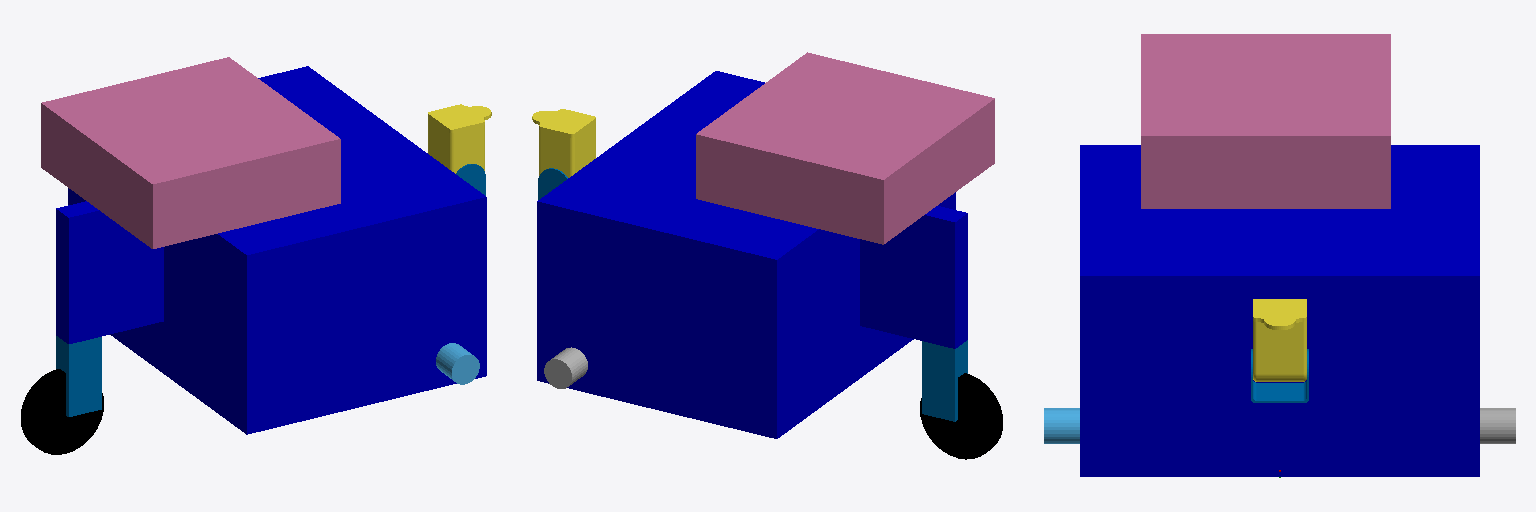
robot.urdf — wubble:
<?xml version="1.0" ?>
<!-- =================================================================================== -->
<!-- |    This document was autogenerated by xacro from wubble_base.urdf.xacro         | -->
<!-- |    EDITING THIS FILE BY HAND IS NOT RECOMMENDED                                 | -->
<!-- =================================================================================== -->
<robot name="wubble" xmlns:controller="http://playerstage.sourceforge.net/gazebo/xmlschema/#controller" xmlns:interface="http://playerstage.sourceforge.net/gazebo/xmlschema/#interface" xmlns:sensor="http://playerstage.sourceforge.net/gazebo/xmlschema/#sensor">
  <!-- Included URDF Files -->
  <material name="Black">
    <color rgba="0.0 0.0 0.0 1.0"/>
  </material>
  <material name="Blue">
    <color rgba="0.0 0.0 0.8 1.0"/>
  </material>
  <material name="Green">
    <color rgba="0.0 0.8 0.0 1.0"/>
  </material>
  <material name="Grey">
    <color rgba="0.7 0.7 0.7 1.0"/>
  </material>
  <material name="Grey2">
    <color rgba="0.9 0.9 0.9 1.0"/>
  </material>
  <material name="Red">
    <color rgba="0.8 0.0 0.0 1.0"/>
  </material>
  <material name="White">
    <color rgba="1.0 1.0 1.0 1.0"/>
  </material>
  <!-- Properties (Constants) -->
  <!-- VIDERE ERRATIC MOBILE BASE -->
  <link name="base_footprint">
    <inertial>
      <mass value="0.0001"/>
      <origin xyz="0 0 0"/>
      <inertia ixx="0.0001" ixy="0.0" ixz="0.0" iyy="0.0001" iyz="0.0" izz="0.0001"/>
    </inertial>
    <visual>
      <origin rpy="0 0 0" xyz="0 0 0"/>
      <geometry>
        <box size="0.001 0.001 0.001"/>
      </geometry>
      <material name="Green"/>
    </visual>
    <collision>
      <origin rpy="0 0 0" xyz="0 0 0.1285"/>
      <geometry>
        <box size="0.001 0.001 0.001"/>
      </geometry>
    </collision>
  </link>
  <joint name="base_footprint_joint" type="fixed">
    <!-- NB: While you would think this would make it go up, it is oddly reversed.
                 This moves the joint to 0,0,0 where we want it for rviz, etc. -->
    <origin rpy="0 0 0" xyz="0 0 0.1285"/>
    <parent link="base_footprint"/>
    <child link="base_link"/>
  </joint>
  <link name="base_link">
    <inertial>
      <mass value="20"/>
      <origin xyz="-0.1085 0 -0.0775"/>
      <inertia ixx="1.0" ixy="0.0" ixz="0.0" iyy="1.0" iyz="0.0" izz="1.0"/>
    </inertial>
    <visual>
      <origin rpy="0 0 0" xyz="0.0 0.0 0.0"/>
      <geometry>
        <box size="0.217 0.28 0.155"/>
      </geometry>
      <material name="Blue"/>
    </visual>
    <collision>
      <origin rpy="0 0 0" xyz="0.0 0.0 0.0"/>
      <geometry>
        <box size="0.217 0.28 0.155"/>
      </geometry>
    </collision>
  </link>
  <joint name="base_top_joint" type="fixed">
    <origin rpy="0 0 0" xyz="0 0 0.0785"/>
    <!-- 0.051 -->
    <parent link="base_link"/>
    <child link="base_top_link"/>
  </joint>
  <link name="base_top_link">
    <inertial>
      <mass value="1.0"/>
      <origin xyz="-0.00125736 0.0 -0.0032368"/>
      <inertia ixx="0.00995424" ixy="0.0" ixz="0.00000413" iyy="0.01191941" iyz="0.0" izx="0.00000413" izz="0.02181097"/>
    </inertial>
    <visual>
      <origin rpy="0 0 0" xyz="0.0 0.0 0.0"/>
      <geometry>
        <mesh filename="package://erratic_description/meshes/erratic_top.stl"/>
      </geometry>
      <material name="Blue"/>
    </visual>
    <collision>
      <origin rpy="0 0 0" xyz="0.0 0.0 0.0"/>
      <geometry>
        <mesh filename="package://erratic_description/meshes/erratic_top.stl"/>
      </geometry>
    </collision>
  </link>
  <joint name="base_caster_box_joint" type="fixed">
    <origin rpy="0 0 0" xyz="-0.1515 0 0.02275"/>
    <parent link="base_link"/>
    <child link="base_caster_box_link"/>
  </joint>
  <link name="base_caster_box_link">
    <inertial>
      <mass value="0.1"/>
      <origin xyz="0 0 0"/>
      <inertia ixx="0.01" ixy="0.0" ixz="0.0" iyy="0.01" iyz="0.0" izz="0.01"/>
    </inertial>
    <visual>
      <origin rpy="0 0 0" xyz="0.0 0.0 0.0"/>
      <geometry>
        <box size="0.086 0.02 0.1095"/>
      </geometry>
      <material name="Blue"/>
    </visual>
    <collision>
      <origin rpy="0 0 0" xyz="0.0 0.0 0.0"/>
      <geometry>
        <box size="0.086 0.02 0.1095"/>
      </geometry>
    </collision>
  </link>
  <joint name="base_caster_support_joint" type="continuous">
    <origin rpy="0 0 0" xyz="-0.028 0 -0.08625"/>
    <parent link="base_caster_box_link"/>
    <child link="base_caster_support_link"/>
    <axis xyz="0 0 1"/>
    <anchor xyz="0.01 0 0"/>
    <limit effort="100" k_velocity="0" velocity="100"/>
    <joint_properties damping="0.0" friction="0.0"/>
  </joint>
  <transmission name="base_caster_support_trans" type="pr2_mechanism_model/SimpleTransmission">
    <actuator name="base_caster_support_motor"/>
    <joint name="base_caster_support_joint"/>
    <mechanicalReduction>1.0</mechanicalReduction>
  </transmission>
  <link name="base_caster_support_link">
    <inertial>
      <mass value="0.1"/>
      <origin xyz="0 0 0"/>
      <inertia ixx="0.01" ixy="0.0" ixz="0.0" iyy="0.01" iyz="0.0" izz="0.01"/>
    </inertial>
    <visual>
      <origin rpy="0 0 0" xyz="0.0 0.0 0.0"/>
      <geometry>
        <box size="0.03 0.02 0.063"/>
      </geometry>
    </visual>
    <collision>
      <origin rpy="0 0 0" xyz="0.0 0.0 0.0"/>
      <geometry>
        <box size="0.03 0.02 0.063"/>
      </geometry>
    </collision>
  </link>
  <joint name="caster_wheel_joint" type="continuous">
    <origin rpy="0 0 0" xyz="-0.015 0 -0.03"/>
    <parent link="base_caster_support_link"/>
    <child link="caster_wheel_link"/>
    <axis xyz="0 1 0"/>
    <anchor xyz="0 0 0"/>
    <limit effort="100" k_velocity="0" velocity="100"/>
    <joint_properties damping="0.0" friction="0.0"/>
  </joint>
  <transmission name="caster_wheel_trans" type="pr2_mechanism_model/SimpleTransmission">
    <actuator name="caster_wheel_motor"/>
    <joint name="caster_wheel_joint"/>
    <mechanicalReduction>1.0</mechanicalReduction>
  </transmission>
  <link name="caster_wheel_link">
    <inertial>
      <mass value="0.1"/>
      <origin rpy="0 0 0" xyz="0.0 0.0 0.0"/>
      <inertia ixx="0.012411765597" ixy="-0.000711733678" ixz="0.00050272983" iyy="0.015218160428" iyz="-0.000004273467" izz="0.011763977943"/>
    </inertial>
    <visual>
      <origin rpy="1.570795 0 0" xyz="0 0 0"/>
      <geometry>
        <cylinder length="0.01" radius="0.035"/>
      </geometry>
      <material name="Black"/>
    </visual>
    <collision>
      <origin rpy="1.570795 0 0" xyz="0 0 0"/>
      <geometry>
        <cylinder length="0.01" radius="0.035"/>
      </geometry>
    </collision>
  </link>
  <gazebo reference="caster_wheel_link">
    <elem key="mu1" value="50.0"/>
    <elem key="mu2" value="50.0"/>
    <elem key="kp" value="1000000.0"/>
    <elem key="kd" value="1.0"/>
  </gazebo>
  <joint name="computer_mount_joint" type="fixed">
    <origin xyz="-0.08395 -0.0097 0.001"/>
    <parent link="base_top_link"/>
    <child link="computer_link"/>
  </joint>
  <link name="computer_link">
    <inertial>
      <mass value="2"/>
      <origin rpy="0 0 0" xyz="0 0 0.028"/>
      <inertia ixx="0.1" ixy="0" ixz="0" iyy="0.1" iyz="0" izz="0.1"/>
    </inertial>
    <visual>
      <origin rpy="0 0 0" xyz="0 0 0.028"/>
      <geometry>
        <box size="0.17 0.175 0.056"/>
      </geometry>
    </visual>
    <collision>
      <origin rpy="0 0 0" xyz="0 0 0.028"/>
      <geometry>
        <box size="0.17 0.175 0.056"/>
      </geometry>
    </collision>
  </link>
  <gazebo reference="computer_link">
    <material>Erratic/BlueBrushedAluminum</material>
  </gazebo>
  <joint name="base_link_left_motor_joint" type="fixed">
    <origin rpy="0 0 0" xyz="0.075 0.14 -0.0539"/>
    <parent link="base_link"/>
    <child link="base_link_left_motor_link"/>
  </joint>
  <link name="base_link_left_motor_link">
    <inertial>
      <mass value="0.1"/>
      <origin xyz=" 0 0.0125 0 "/>
      <inertia ixx="0.012411765597" ixy="0.0" ixz="0.0" iyy="0.015218160428" iyz="0.0" izz="0.011763977943"/>
    </inertial>
    <visual>
      <origin rpy="1.570795 0 0" xyz="0 0.0125 0"/>
      <geometry>
        <cylinder length="0.025" radius="0.0127"/>
      </geometry>
    </visual>
    <collision>
      <origin rpy="1.570795 0 0" xyz="0 0.0125 0"/>
      <geometry>
        <cylinder length="0.025" radius="0.0127"/>
      </geometry>
    </collision>
  </link>
  <joint name="base_link_left_wheel_joint" type="continuous">
    <origin rpy="0 0 0" xyz="0 0.025 0"/>
    <axis xyz="0 1 0"/>
    <anchor xyz="0 0 0"/>
    <limit effort="100" velocity="100"/>
    <joint_properties damping="0.0" friction="0.0"/>
    <parent link="base_link_left_motor_link"/>
    <child link="base_link_left_wheel_link"/>
  </joint>
  <link name="base_link_left_wheel_link">
    <inertial>
      <mass value="0.1"/>
      <origin xyz=" 0 0 0 "/>
      <inertia ixx="0.012411765597" ixy="0.0" ixz="0.0" iyy="0.015218160428" iyz="0.0" izz="0.011763977943"/>
    </inertial>
    <visual>
      <origin rpy="0 0 1.570795" xyz="0 0 0"/>
      <geometry>
        <mesh filename="package://erratic_description/meshes/erratic_wheel.stl"/>
      </geometry>
      <material name="Black"/>
    </visual>
    <collision>
      <origin rpy="0 0 1.570795" xyz="0 0 0"/>
      <geometry>
        <mesh filename="package://erratic_description/meshes/erratic_wheel.stl"/>
      </geometry>
    </collision>
  </link>
  <gazebo reference="base_link_left_wheel_link">
    <elem key="mu1" value="50.0"/>
    <elem key="mu2" value="50.0"/>
    <elem key="kp" value="100000000.0"/>
    <elem key="kd" value="1.0"/>
    <material>Erratic/Grey</material>
  </gazebo>
  <gazebo reference="base_link_left_motor_link">
    <material>Erratic/White</material>
  </gazebo>
  <transmission name="base_link_left_wheel_trans" type="pr2_mechanism_model/SimpleTransmission">
    <actuator name="base_link_left_wheel_motor"/>
    <joint name="base_link_left_wheel_joint"/>
    <mechanicalReduction>1.0</mechanicalReduction>
  </transmission>
  <joint name="base_link_right_motor_joint" type="fixed">
    <origin rpy="0 0 0" xyz="0.075 -0.14 -0.0539"/>
    <parent link="base_link"/>
    <child link="base_link_right_motor_link"/>
  </joint>
  <link name="base_link_right_motor_link">
    <inertial>
      <mass value="0.1"/>
      <origin xyz=" 0 -0.0125 0 "/>
      <inertia ixx="0.012411765597" ixy="0.0" ixz="0.0" iyy="0.015218160428" iyz="0.0" izz="0.011763977943"/>
    </inertial>
    <visual>
      <origin rpy="1.570795 0 0" xyz="0 -0.0125 0"/>
      <geometry>
        <cylinder length="0.025" radius="0.0127"/>
      </geometry>
    </visual>
    <collision>
      <origin rpy="1.570795 0 0" xyz="0 -0.0125 0"/>
      <geometry>
        <cylinder length="0.025" radius="0.0127"/>
      </geometry>
    </collision>
  </link>
  <joint name="base_link_right_wheel_joint" type="continuous">
    <origin rpy="0 0 0" xyz="0 -0.025 0"/>
    <axis xyz="0 1 0"/>
    <anchor xyz="0 0 0"/>
    <limit effort="100" velocity="100"/>
    <joint_properties damping="0.0" friction="0.0"/>
    <parent link="base_link_right_motor_link"/>
    <child link="base_link_right_wheel_link"/>
  </joint>
  <link name="base_link_right_wheel_link">
    <inertial>
      <mass value="0.1"/>
      <origin xyz=" 0 0 0 "/>
      <inertia ixx="0.012411765597" ixy="0.0" ixz="0.0" iyy="0.015218160428" iyz="0.0" izz="0.011763977943"/>
    </inertial>
    <visual>
      <origin rpy="0 0 1.570795" xyz="0 0 0"/>
      <geometry>
        <mesh filename="package://erratic_description/meshes/erratic_wheel.stl"/>
      </geometry>
      <material name="Black"/>
    </visual>
    <collision>
      <origin rpy="0 0 1.570795" xyz="0 0 0"/>
      <geometry>
        <mesh filename="package://erratic_description/meshes/erratic_wheel.stl"/>
      </geometry>
    </collision>
  </link>
  <gazebo reference="base_link_right_wheel_link">
    <elem key="mu1" value="50.0"/>
    <elem key="mu2" value="50.0"/>
    <elem key="kp" value="100000000.0"/>
    <elem key="kd" value="1.0"/>
    <material>Erratic/Grey</material>
  </gazebo>
  <gazebo reference="base_link_right_motor_link">
    <material>Erratic/White</material>
  </gazebo>
  <transmission name="base_link_right_wheel_trans" type="pr2_mechanism_model/SimpleTransmission">
    <actuator name="base_link_right_wheel_motor"/>
    <joint name="base_link_right_wheel_joint"/>
    <mechanicalReduction>1.0</mechanicalReduction>
  </transmission>
  <gazebo>
    <controller:diffdrive_plugin name="differential_drive_controller" plugin="libdiffdrive_plugin.so">
      <alwaysOn>true</alwaysOn>
      <update>100</update>
      <updateRate>100.0</updateRate>
      <leftJoint>base_link_right_wheel_joint</leftJoint>
      <rightJoint>base_link_left_wheel_joint</rightJoint>
      <wheelSeparation>0.34</wheelSeparation>
      <wheelDiameter>0.1492</wheelDiameter>
      <torque>5</torque>
      <interface:position name="position_iface_0"/>
      <robotNamespace>/</robotNamespace>
      <topicName>cmd_vel</topicName>
    </controller:diffdrive_plugin>
    <controller:gazebo_ros_p3d name="p3d_base_controller" plugin="libgazebo_ros_p3d.so">
      <alwaysOn>true</alwaysOn>
      <updateRate>100.0</updateRate>
      <bodyName>base_link</bodyName>
      <topicName>base_pose_ground_truth</topicName>
      <gaussianNoise>0.01</gaussianNoise>
      <frameName>map</frameName>
      <xyzOffsets>0 0 0</xyzOffsets>
      <rpyOffsets>0 0 0</rpyOffsets>
      <interface:position name="p3d_base_position"/>
    </controller:gazebo_ros_p3d>
    <canonicalBody>base_footprint</canonicalBody>
    <!-- this publishes empty joint_states due to no transmission, but
             triggering robot_state_publisher to publish tf between fixed joints in erratic,
             (e.g. base_laser_link for the base_scan frame) -->
    <controller:gazebo_ros_controller_manager name="gazebo_ros_controller_manager" plugin="libgazebo_ros_controller_manager.so">
      <alwaysOn>true</alwaysOn>
      <updateRate>100.0</updateRate>
      <interface:audio name="gazebo_ros_controller_manager_dummy_iface"/>
    </controller:gazebo_ros_controller_manager>
  </gazebo>
  <gazebo reference="base_link">
    <material>Erratic/BlueBrushedAluminum</material>
  </gazebo>
  <gazebo reference="base_top_link">
    <material>Erratic/BlueBrushedAluminum</material>
  </gazebo>
  <gazebo reference="caster_wheel_link">
    <material>Erratic/Black</material>
  </gazebo>
  <gazebo reference="base_caster_box_link">
    <material>Erratic/Black</material>
  </gazebo>
  <gazebo reference="base_caster_support_link">
    <material>Erratic/White</material>
  </gazebo>
  <!-- HOKUYO LASER ATTACHMENT -->
  <joint name="laser_support_joint" type="fixed">
    <origin rpy="3.14159 0 0" xyz="0.18085 0 -0.001"/>
    <parent link="base_top_link"/>
    <child link="hokuyo_tilt_link"/>
  </joint>
  <link name="hokuyo_tilt_link">
    <inertial>
      <mass value="0.1"/>
      <origin rpy="0 0 0" xyz="0 0 0"/>
      <inertia ixx="0.01" ixy="0" ixz="0" iyy="0.01" iyz="0" izz="0.01"/>
    </inertial>
    <visual>
      <origin rpy="0 0 0" xyz="0 0 0"/>
      <geometry>
        <mesh filename="package://wubble_description/meshes/camera_tilt.stl"/>
      </geometry>
    </visual>
    <collision>
      <origin rpy="0 0 0" xyz="0 0 0"/>
      <geometry>
        <mesh filename="package://wubble_description/meshes/camera_tilt.stl"/>
      </geometry>
    </collision>
  </link>
  <joint name="hokuyo_tilt_joint" type="revolute">
    <origin xyz="-0.019 0 0.043"/>
    <parent link="hokuyo_tilt_link"/>
    <child link="hokuyo_mount_link"/>
    <axis xyz="0 1 0"/>
    <limit effort="100" lower="-0.1" upper="0.785398164" velocity="12.0"/>
    <safety_controller k_position="100" k_velocity="15.0" soft_lower_limit="0.0" soft_upper_limit="0.685398164"/>
    <dynamics damping="50" friction="1"/>
  </joint>
  <transmission name="hokuyo_tilt_trans" type="pr2_mechanism_model/SimpleTransmission">
    <actuator name="hokuyo_tilt_motor"/>
    <joint name="hokuyo_tilt_joint"/>
    <mechanicalReduction>1.0</mechanicalReduction>
  </transmission>
  <link name="hokuyo_mount_link">
    <inertial>
      <mass value="0.01"/>
      <origin rpy="0 0 0" xyz="0 0 0"/>
      <inertia ixx="0.01" ixy="0" ixz="0" iyy="0.01" iyz="0" izz="0.01"/>
    </inertial>
    <visual>
      <origin rpy="0 0 0" xyz="0 0 0"/>
      <geometry>
        <mesh filename="package://wubble_description/meshes/camera_mount.stl"/>
      </geometry>
    </visual>
    <collision>
      <origin rpy="0 0 0" xyz="0 0 0"/>
      <geometry>
        <mesh filename="package://wubble_description/meshes/camera_mount.stl"/>
      </geometry>
    </collision>
  </link>
  <joint name="hokuyo_mount_joint" type="fixed">
    <origin rpy="0 0 0" xyz="0 0 0.023"/>
    <parent link="hokuyo_mount_link"/>
    <child link="hokuyo_link"/>
  </joint>
  <link name="hokuyo_link">
    <inertial>
      <mass value="0.160"/>
      <origin rpy="0 0 0" xyz="0.0 0.0 0.0"/>
      <inertia ixx="1.0" ixy="0.0" ixz="0.0" iyy="1.0" iyz="0.0" izz="1.0"/>
    </inertial>
    <visual>
      <origin rpy="1.570795 0 1.570795" xyz="0.0 0.0 0.0"/>
      <geometry>
        <mesh filename="package://hokuyo_urg_description/meshes/hokuyo_urg.stl"/>
      </geometry>
    </visual>
    <collision>
      <origin rpy="1.570795 0 1.570795" xyz="0.0 0.0 0.0"/>
      <geometry>
        <mesh filename="package://hokuyo_urg_description/meshes/convex/hokuyo_urg_convex.stlb"/>
      </geometry>
    </collision>
  </link>
  <joint name="laser_joint" type="fixed">
    <origin rpy="0 0 0" xyz="0 0 0.06"/>
    <parent link="hokuyo_link"/>
    <child link="laser_link"/>
  </joint>
  <link name="laser_link" type="laser">
    <inertial>
      <mass value="0.001"/>
      <origin rpy="0 0 0" xyz="0 0 0"/>
      <inertia ixx="0.0001" ixy="0" ixz="0" iyy="0.000001" iyz="0" izz="0.0001"/>
    </inertial>
    <visual name="laser_visual">
      <origin rpy="0 0 0" xyz="0 0 0"/>
      <geometry name="laser_visual_geom">
        <box size="0.001 0.001 0.001"/>
      </geometry>
      <material name="Red"/>
    </visual>
    <collision name="laser_collision">
      <origin rpy="0 0 0" xyz="0 0 0"/>
      <geometry name="laser_collision_geom">
        <box size=".001 .001 .001"/>
      </geometry>
    </collision>
  </link>
  <gazebo reference="hokuyo_link">
    <material value="Erratic/Black"/>
  </gazebo>
  <gazebo reference="hokuyo_link">
    <sensor:ray name="laser">
      <rayCount>683</rayCount>
      <rangeCount>683</rangeCount>
      <laserCount>1</laserCount>
      <origin>0.0 0.0 0.0</origin>
      <displayRays>false</displayRays>
      <minAngle>-90</minAngle>
      <maxAngle> 90</maxAngle>
      <minRange>0.06</minRange>
      <maxRange>4.0</maxRange>
      <resRange>0.001</resRange>
      <updateRate>10.0</updateRate>
      <controller:gazebo_ros_laser name="gazebo_ros_laser_controller" plugin="libgazebo_ros_laser.so">
        <gaussianNoise>0.005</gaussianNoise>
        <alwaysOn>true</alwaysOn>
        <updateRate>10.0</updateRate>
        <topicName>tilt_laser/scan</topicName>
        <deprecatedTopicName>tilt_scan</deprecatedTopicName>
        <frameName>laser_link</frameName>
        <interface:laser name="gazebo_ros_laser_iface"/>
      </controller:gazebo_ros_laser>
    </sensor:ray>
  </gazebo>
  <!-- GAZEBO MATERIALS -->
  <gazebo reference="hokuyo_tilt_link">
    <material>Erratic/Black</material>
  </gazebo>
  <gazebo reference="hokuyo_mount_link">
    <material>SmartArm/GunMetalBrushedAluminum</material>
  </gazebo>
</robot>

--- Facts derived from the render (not from the file) ---
Views: 3 orthographic renders of the robot side by side, from view 1: azimuth 30°, elevation 25°; view 2: azimuth 150°, elevation 25°; view 3: azimuth 270°, elevation 25°.
Model wubble with 15 links and 14 joints (1 revolute, 4 continuous, 9 fixed), rooted at base_footprint, posed all joints at 0.
Visible links, largest first — view 1: base_link, computer_link, base_caster_box_link, caster_wheel_link, hokuyo_tilt_link, base_caster_support_link, base_link_right_motor_link, hokuyo_mount_link; view 2: base_link, computer_link, base_caster_box_link, caster_wheel_link, hokuyo_tilt_link, base_caster_support_link, base_link_left_motor_link, hokuyo_mount_link; view 3: base_link, computer_link, hokuyo_tilt_link, hokuyo_mount_link, base_link_left_motor_link, base_link_right_motor_link.
Link boxes in pixels (box(x1,y1,x2,y2)): base_link: box(68, 66, 486, 434); computer_link: box(41, 57, 340, 248); base_caster_box_link: box(56, 201, 163, 343); caster_wheel_link: box(21, 369, 103, 454); hokuyo_tilt_link: box(428, 104, 491, 173); base_caster_support_link: box(56, 336, 101, 416); base_link_right_motor_link: box(436, 343, 479, 384); hokuyo_mount_link: box(456, 164, 485, 195); base_link: box(537, 71, 955, 438); computer_link: box(696, 52, 994, 244); base_caster_box_link: box(860, 206, 967, 348); caster_wheel_link: box(920, 373, 1002, 459); hokuyo_tilt_link: box(532, 109, 595, 177); base_caster_support_link: box(922, 340, 967, 421); base_link_left_motor_link: box(544, 347, 587, 388); hokuyo_mount_link: box(538, 168, 567, 199); base_link: box(1080, 145, 1479, 476); computer_link: box(1141, 34, 1390, 208); hokuyo_tilt_link: box(1253, 299, 1306, 381); hokuyo_mount_link: box(1251, 349, 1308, 402); base_link_left_motor_link: box(1480, 408, 1515, 443); base_link_right_motor_link: box(1044, 408, 1079, 443).
Size in the robot's own frame: 0.4213 by 0.33 by 0.2645 metres.
Meshes: 5 distinct files referenced, 2 mesh visuals loaded (2 binary STL); not drawn: 4 (reference not matched to a file when rendering).